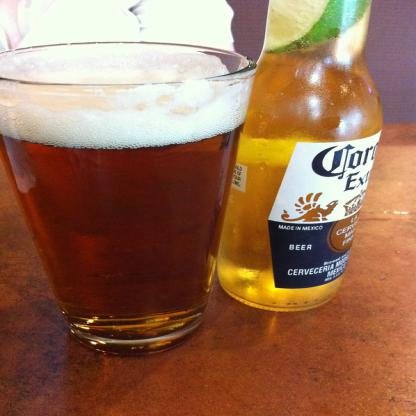drinking: (0, 42, 257, 356), (216, 0, 385, 312)
